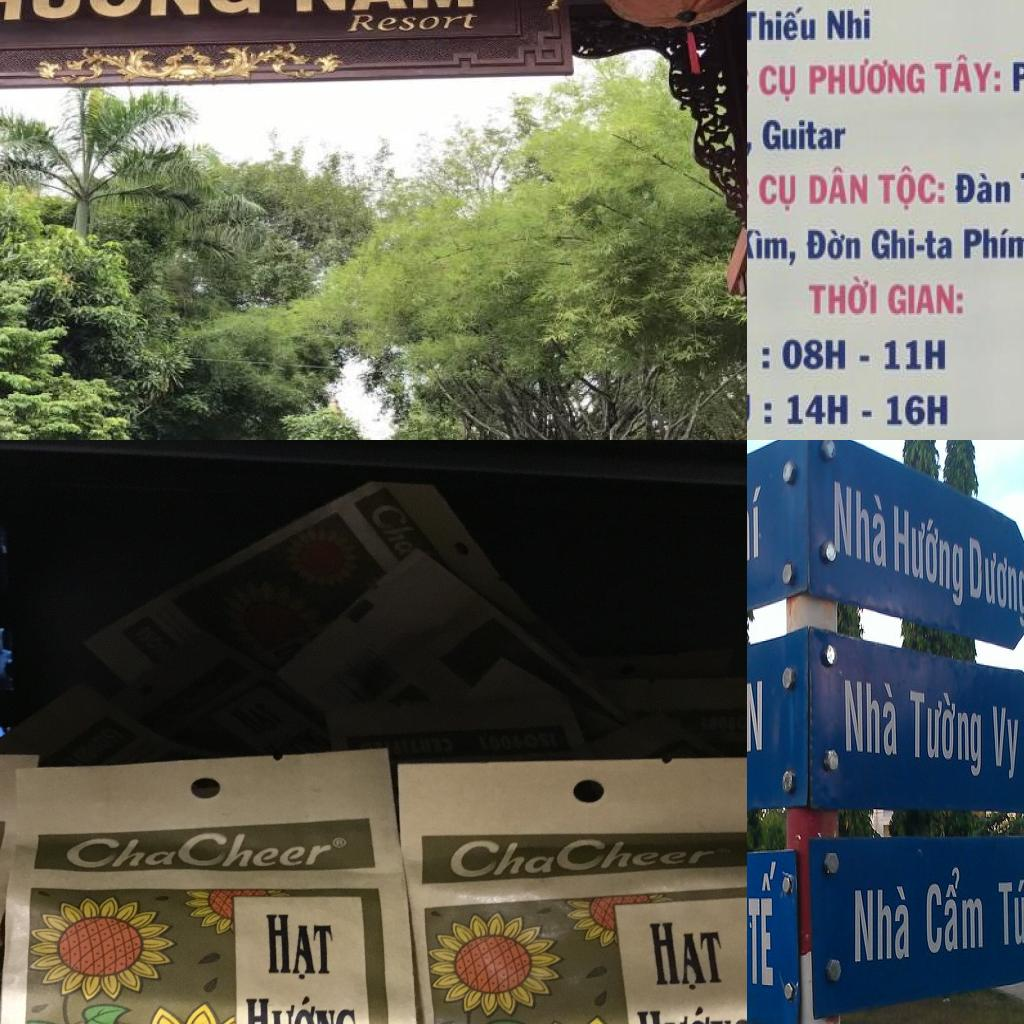text: (446, 835, 726, 881), (62, 827, 334, 869), (893, 504, 965, 609), (909, 685, 983, 778), (645, 918, 729, 994), (0, 0, 262, 24), (924, 865, 985, 957), (261, 910, 338, 982), (968, 534, 1024, 628), (834, 480, 889, 572), (853, 885, 911, 965), (844, 678, 899, 758), (806, 59, 924, 96), (801, 270, 881, 320), (747, 861, 778, 989), (876, 328, 952, 380), (874, 161, 948, 214), (239, 994, 365, 1024), (362, 499, 428, 555), (755, 115, 853, 151), (867, 224, 955, 264), (930, 48, 1005, 94), (882, 388, 955, 434), (782, 384, 853, 430), (885, 281, 968, 318), (806, 164, 874, 206), (778, 335, 849, 375), (747, 2, 819, 41), (950, 166, 1014, 209), (960, 222, 1024, 263), (803, 224, 865, 264), (747, 222, 800, 268), (633, 1003, 747, 1024), (294, 0, 477, 13), (992, 705, 1021, 781), (755, 171, 799, 216), (826, 2, 874, 40), (757, 62, 799, 103), (747, 483, 764, 573), (332, 837, 346, 847)
